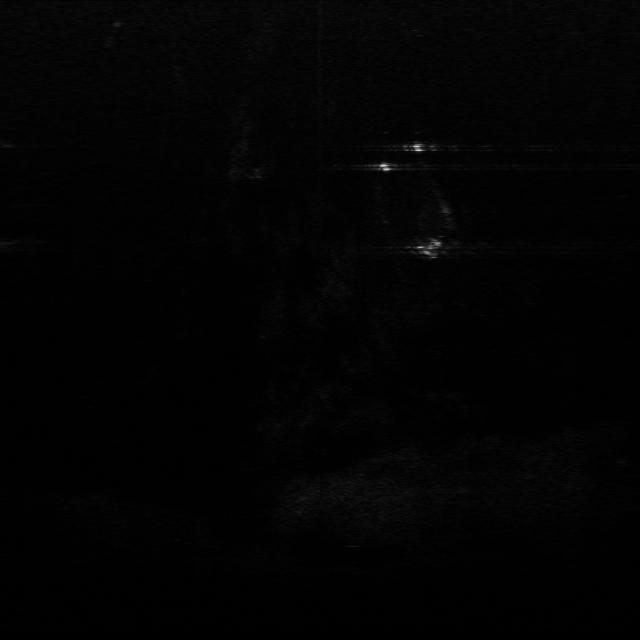rov: (414, 238, 450, 260)
